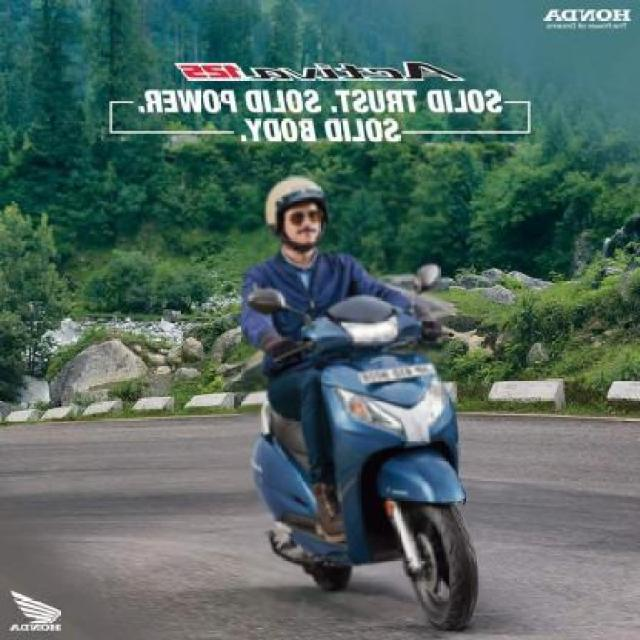helmet: (255, 170, 330, 271)
motorcycle: (223, 161, 529, 640)
